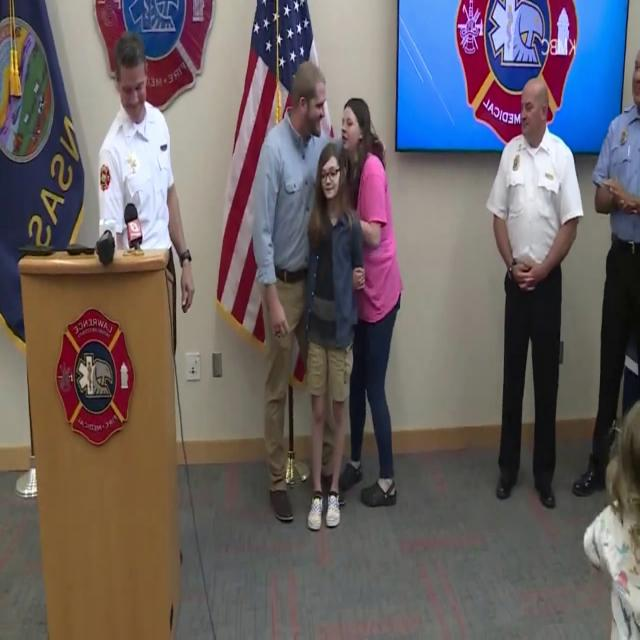adult: (241, 64, 337, 524), (485, 77, 583, 503), (84, 36, 194, 356), (338, 90, 410, 508), (575, 60, 640, 482), (294, 154, 360, 530)
child: (580, 399, 640, 639)
